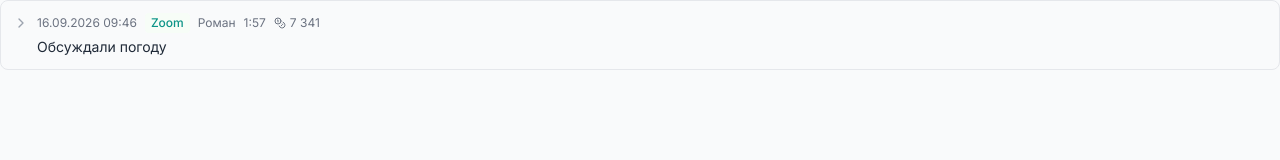
Test: CallSessionItem › битая реплика в расшифровке не роняет строку
Click the button "16.09.2026 09:46 Zoom Роман 1:57 7 341 Обсуждали погоду": (166, 34) [13, 13, 320, 55]
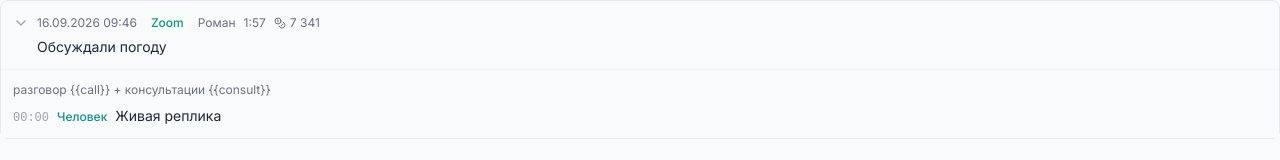
Expected: the text "Живая реплика" is shown, [115, 107, 221, 124]
